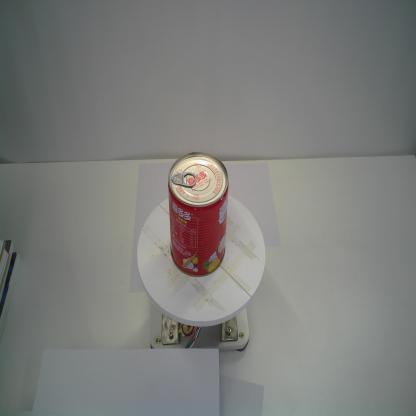Canned Food: (165, 149, 230, 278)
